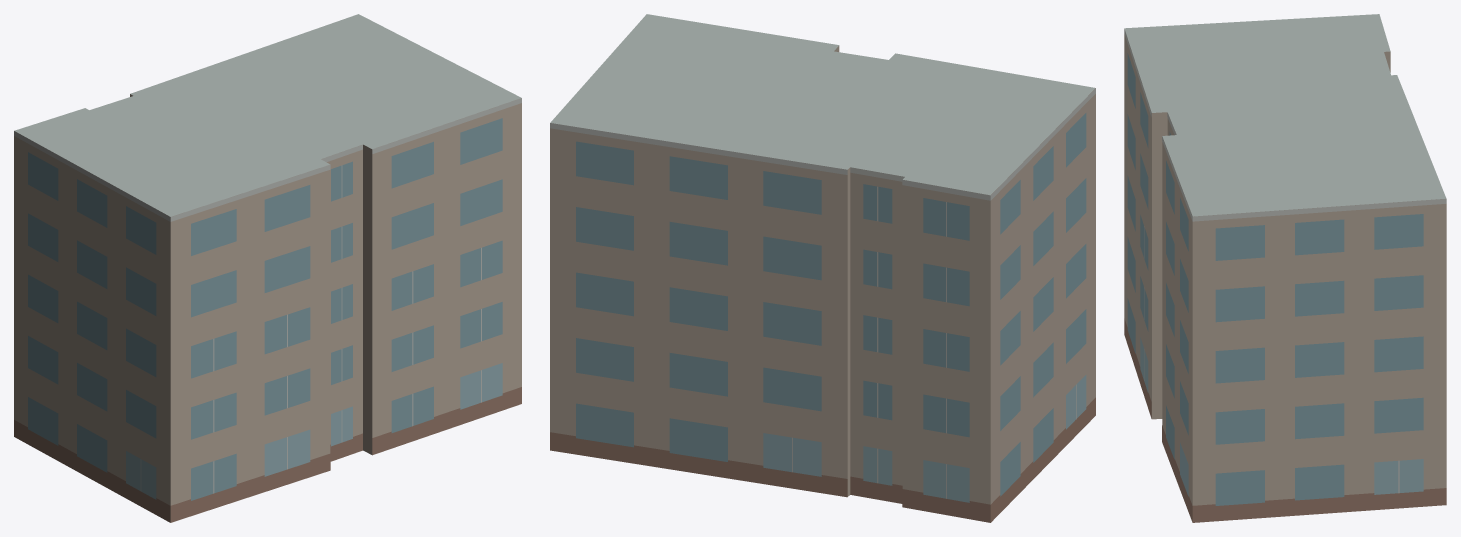
The model's file is survey-upis-32966251.glb.
The picture shows the model from 3 angles, left to right: view 1: azimuth 30°, elevation 25°; view 2: azimuth 150°, elevation 25°; view 3: azimuth 270°, elevation 25°; orthographic projection. The views are drawn at different scales.
Visible parts, largest first — view 1: survey-upis-32966251.tmp; view 2: survey-upis-32966251.tmp; view 3: survey-upis-32966251.tmp.
Part boxes in pixels (x1,y1,x2,y2): survey-upis-32966251.tmp: [14, 14, 521, 522]; survey-upis-32966251.tmp: [550, 14, 1095, 522]; survey-upis-32966251.tmp: [1124, 14, 1446, 522].
Size of the model in its own units: 20.85 by 14.7 by 14.02.
